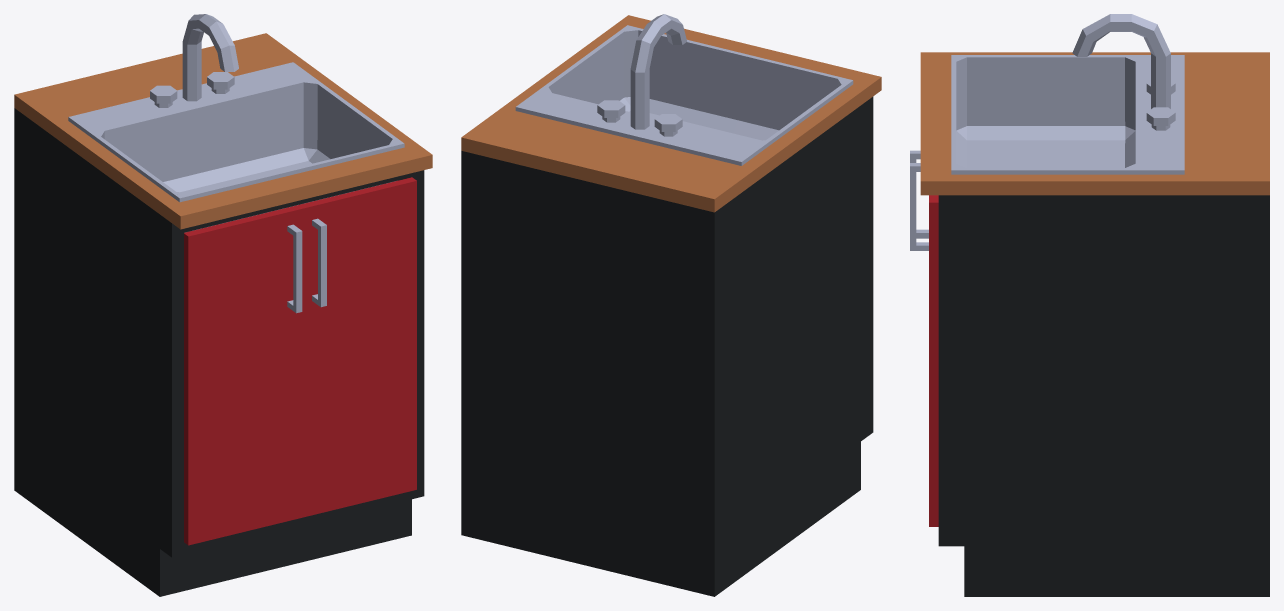
Rendered from furniture_sink.fbx.
3 renders of one model, left to right at view 1: azimuth 30°, elevation 25°; view 2: azimuth 150°, elevation 25°; view 3: azimuth 270°, elevation 25°, orthographic. The views are drawn at different scales.
Visible parts, largest first — view 1: Sink Cabinet, Sink Doors Left, Sink Doors Right; view 2: Sink Cabinet; view 3: Sink Cabinet, Sink Doors Right, Sink Faucet Handle Right.
Part boxes in pixels (left/top/right/bottom): Sink Cabinet: left=14, top=14, right=432, bottom=596; Sink Doors Left: left=184, top=205, right=302, bottom=545; Sink Doors Right: left=298, top=177, right=416, bottom=517; Sink Cabinet: left=461, top=14, right=881, bottom=596; Sink Cabinet: left=920, top=14, right=1269, bottom=596; Sink Doors Right: left=910, top=163, right=938, bottom=526; Sink Faucet Handle Right: left=1146, top=107, right=1175, bottom=130.
Bounding box in the file's own units: 0.6 × 1.12 × 0.7062.
